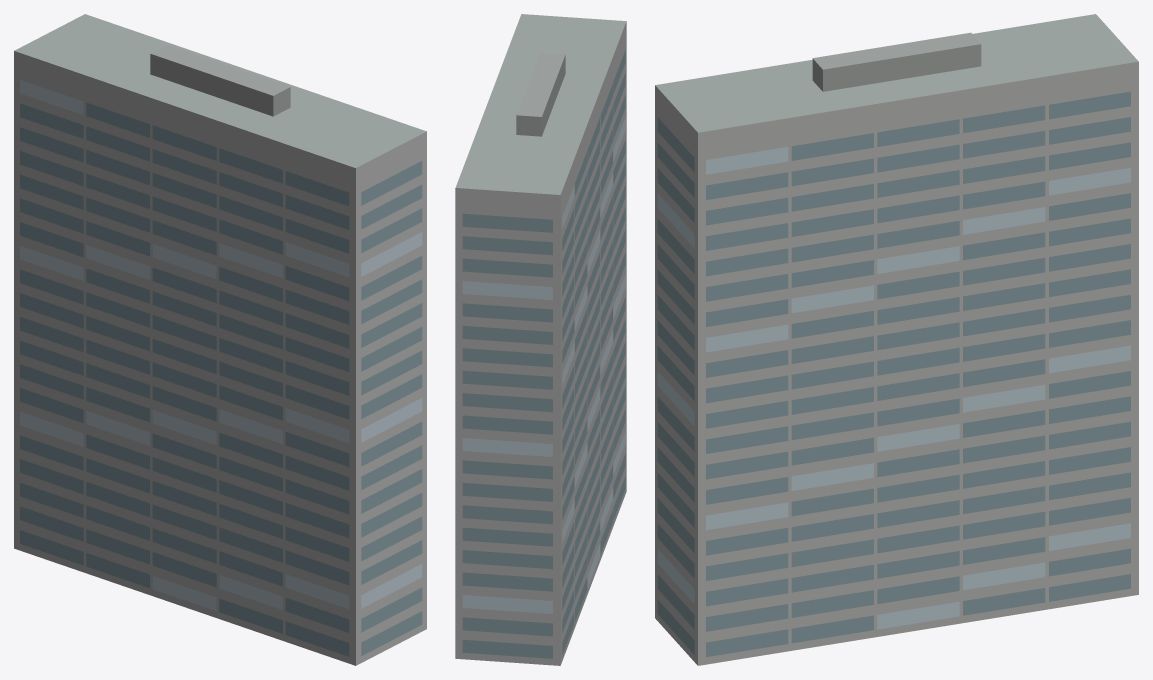
The model's file is fallback-songpa-helio-city-103.glb.
3 views of the same model, side by side, from view 1: azimuth 30°, elevation 25°; view 2: azimuth 150°, elevation 25°; view 3: azimuth 270°, elevation 25° (orthographic). The views are drawn at different scales.
Parts seen in each view (by area): view 1: fallback-songpa-helio-city-103; view 2: fallback-songpa-helio-city-103; view 3: fallback-songpa-helio-city-103.
Part boxes in pixels (x1,y1,x2,y2): fallback-songpa-helio-city-103: (14,14,426,665); fallback-songpa-helio-city-103: (455,14,626,665); fallback-songpa-helio-city-103: (655,14,1138,665).
Bounding box in the file's own units: 27.51 × 60 × 47.36.
